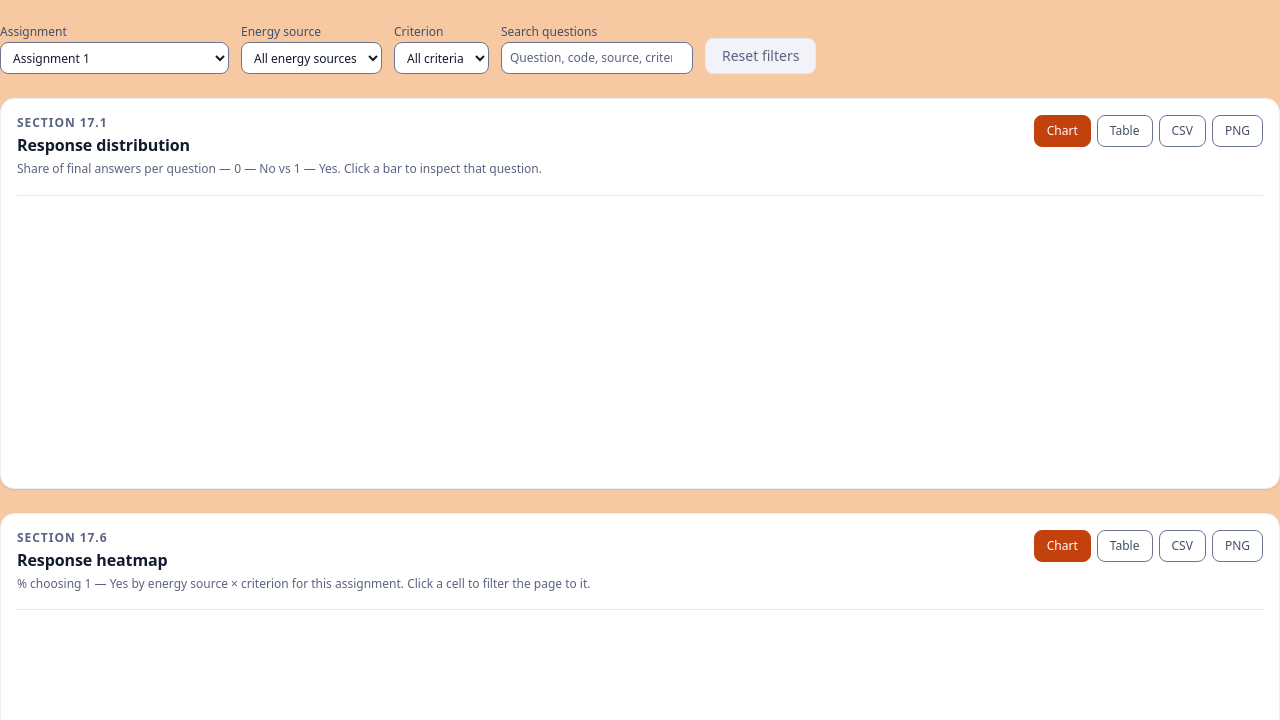
Test case: AssignmentAnalytics › a link assignment shows the plain empty state instead of empty charts
Select "Feedback form (Google Form link)" in the dropdown labelled "Assignment": coordinates (114, 58) [0,42,229,74]
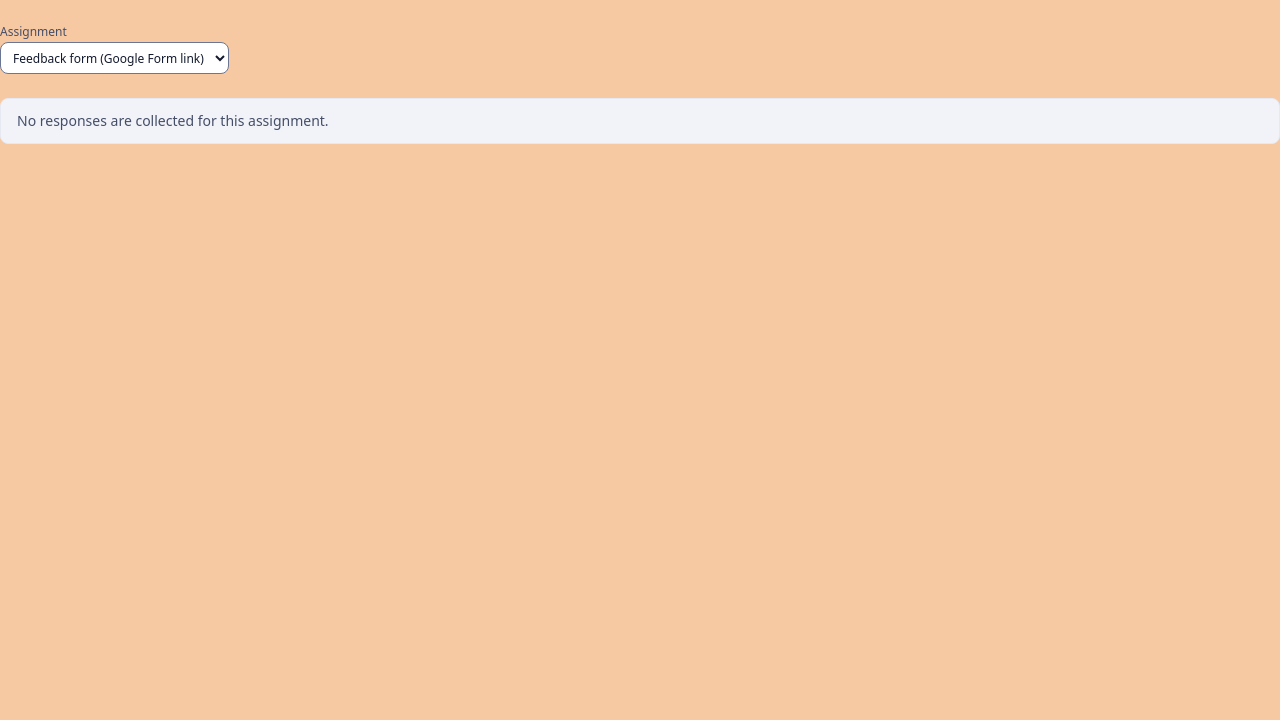
Check: the text "No responses are collected for this assignment." is shown, box [0,98,1279,144]
